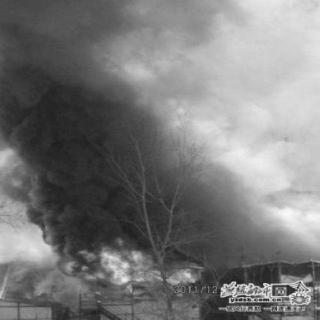Smoke: (3, 3, 313, 261)
